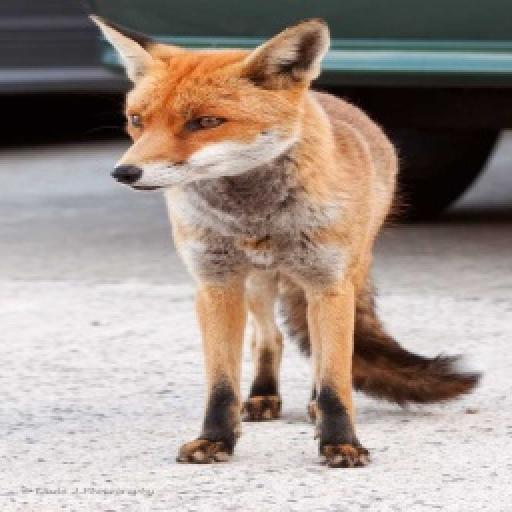zorro: (92, 16, 478, 464)
